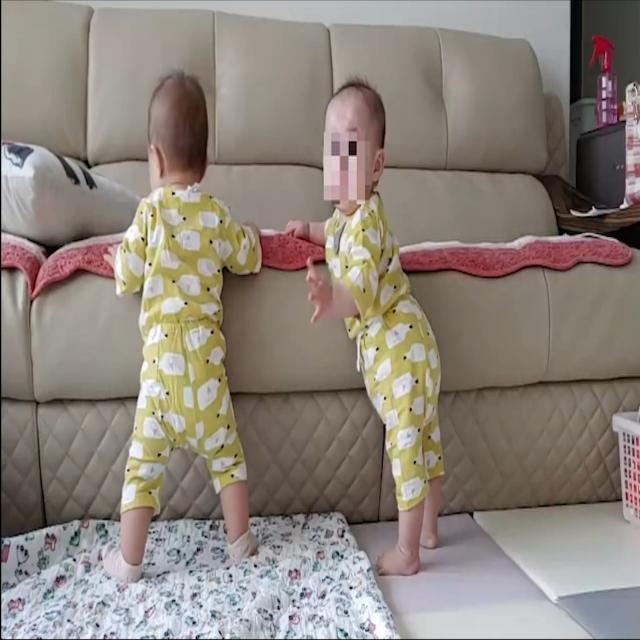child: (103, 71, 263, 581), (308, 78, 443, 576)
